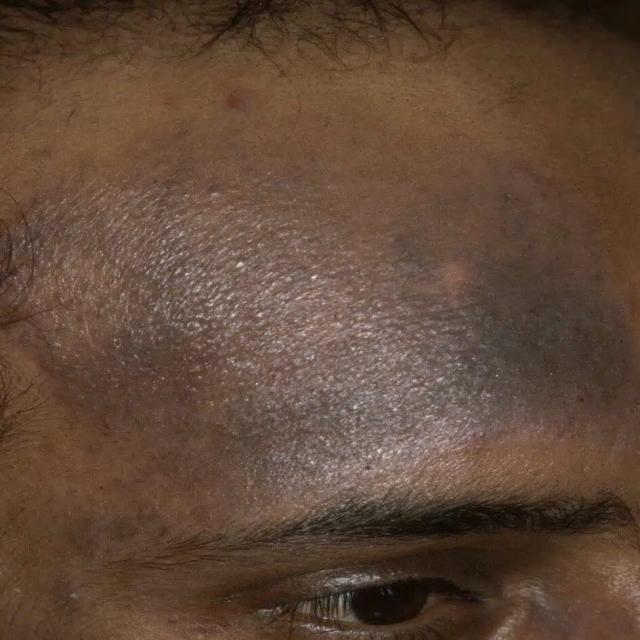Eczema: (41, 146, 634, 454)
